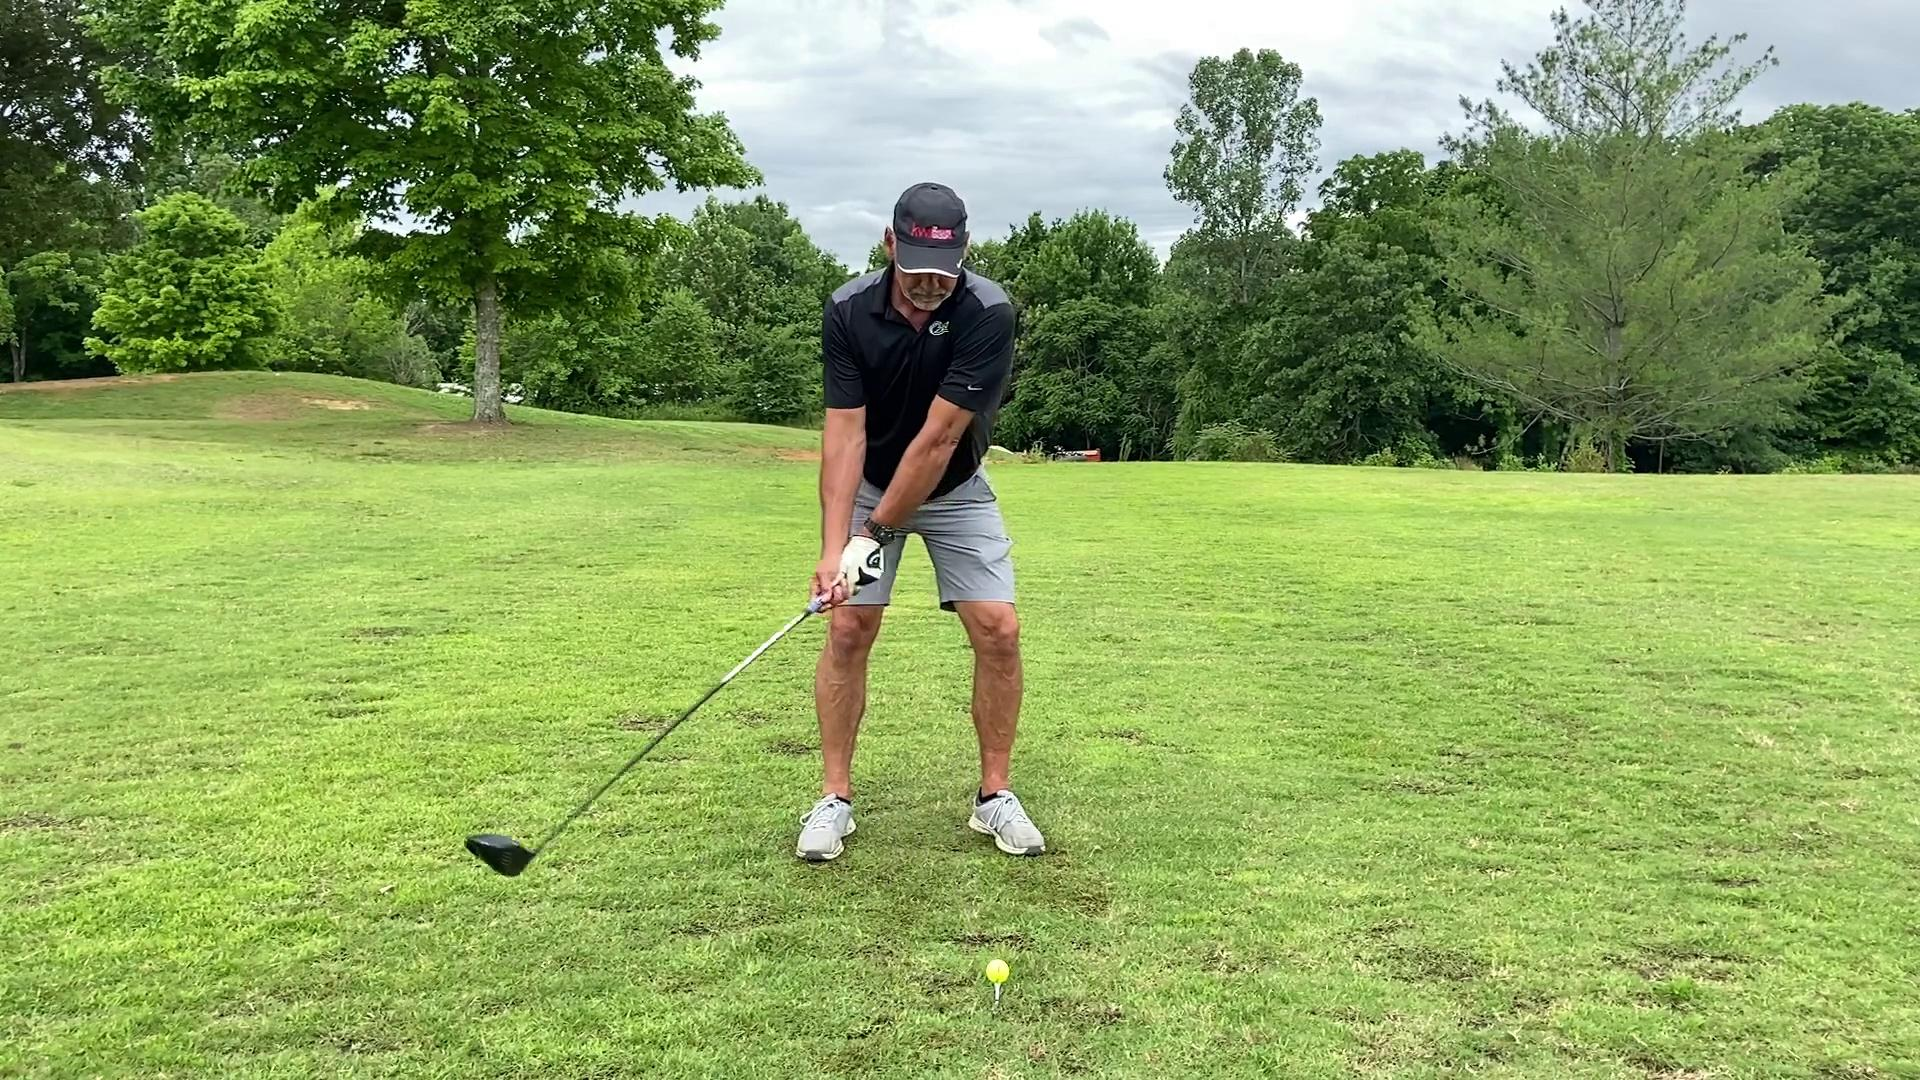ClubHead: (462, 831, 543, 878)
GolfBall: (982, 957, 1013, 988)
